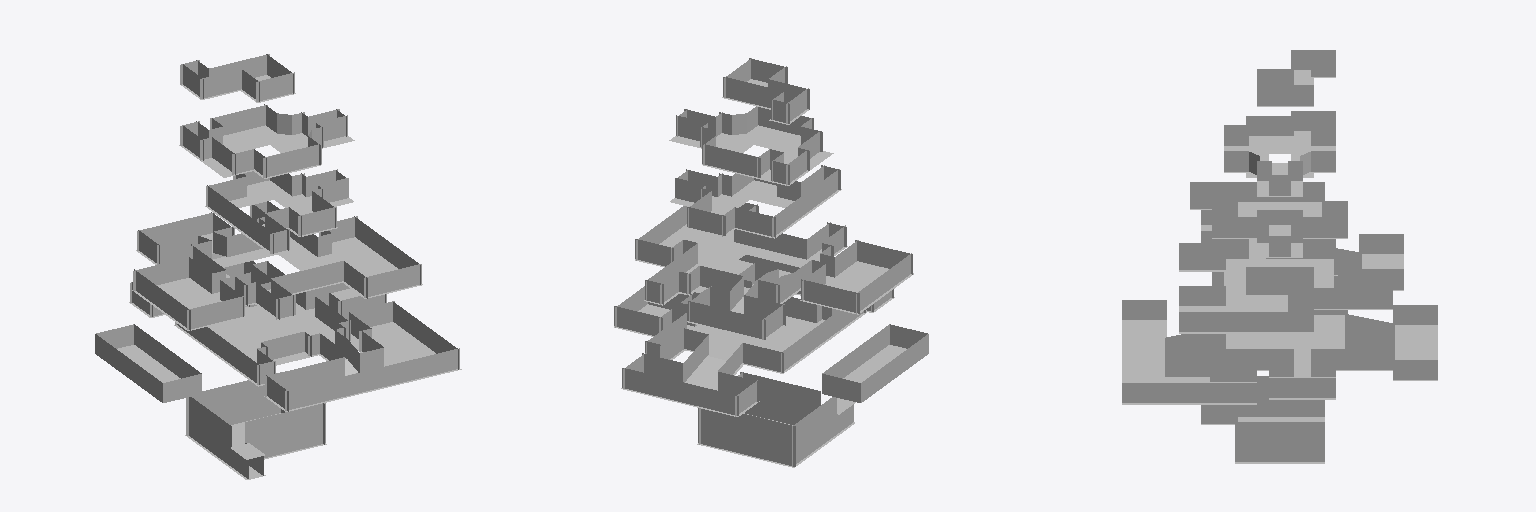
The model's file is tree-0x-collision_mesh.obj.
3 views of the same model, side by side, from view 1: azimuth 30°, elevation 25°; view 2: azimuth 150°, elevation 25°; view 3: azimuth 270°, elevation 25° (orthographic).
Parts seen in each view (by area): view 1: Plane.010_Plane.011, Plane.007_Plane.008, Plane.1161_Plane.862, Plane.1164_Plane.865, Plane.1166_Plane.867, Plane.1167_Plane.868, Plane.1094_Plane.434, Plane.1157_Plane.857, Plane.1172_Plane.873, Plane.1209_Plane.1261, Plane.1191_Plane.1243, Plane.1171_Plane.872 (+25 smaller); view 2: Plane.010_Plane.011, Plane.007_Plane.008, Plane.1166_Plane.867, Plane.1164_Plane.865, Plane.626_Plane.237, Plane.1167_Plane.868, Plane.1172_Plane.873, Plane.1191_Plane.1243, Plane.1171_Plane.872, Plane.1222_Plane.1274, Plane.1209_Plane.1261, Plane.1223_Plane.1275 (+25 smaller); view 3: Plane.007_Plane.008, Plane.1165_Plane.866, Plane.1172_Plane.873, Plane.1091_Plane.401, Plane.1090_Plane.399, Plane.010_Plane.011, Plane.1167_Plane.868, Plane.1142_Plane.263, Plane.1146_Plane.290, Plane.1204_Plane.1256, Plane.1278_Plane.1331, Plane.1202_Plane.1254 (+28 smaller).
Boxes of the visible parts, x1,y1,x2,y2 form: Plane.010_Plane.011: [95, 324, 201, 402]; Plane.007_Plane.008: [129, 264, 357, 386]; Plane.1161_Plane.862: [285, 348, 459, 410]; Plane.1164_Plane.865: [245, 403, 325, 457]; Plane.1166_Plane.867: [186, 372, 280, 435]; Plane.1167_Plane.868: [189, 397, 231, 466]; Plane.1094_Plane.434: [351, 322, 435, 365]; Plane.1157_Plane.857: [265, 357, 344, 396]; Plane.1172_Plane.873: [213, 240, 343, 305]; Plane.1209_Plane.1261: [271, 261, 343, 293]; Plane.1191_Plane.1243: [137, 213, 214, 250]; Plane.1171_Plane.872: [177, 324, 259, 384]; Plane.010_Plane.011: [822, 324, 928, 402]; Plane.007_Plane.008: [621, 309, 866, 416]; Plane.1166_Plane.867: [698, 408, 795, 466]; Plane.1164_Plane.865: [740, 372, 820, 424]; Plane.626_Plane.237: [622, 368, 738, 415]; Plane.1167_Plane.868: [792, 397, 836, 466]; Plane.1172_Plane.873: [686, 239, 819, 303]; Plane.1191_Plane.1243: [688, 301, 765, 339]; Plane.1171_Plane.872: [781, 310, 863, 372]; Plane.1222_Plane.1274: [800, 261, 913, 314]; Plane.1209_Plane.1261: [734, 229, 806, 259]; Plane.1223_Plane.1275: [801, 279, 859, 313]; Plane.007_Plane.008: [1226, 315, 1437, 380]; Plane.1165_Plane.866: [1235, 422, 1324, 461]; Plane.1172_Plane.873: [1224, 257, 1335, 309]; Plane.1091_Plane.401: [1122, 320, 1166, 404]; Plane.1090_Plane.399: [1122, 383, 1256, 402]; Plane.010_Plane.011: [1212, 267, 1313, 294]; Plane.1167_Plane.868: [1238, 376, 1324, 416]; Plane.1142_Plane.263: [1311, 349, 1392, 369]; Plane.1146_Plane.290: [1269, 378, 1335, 397]; Plane.1204_Plane.1256: [1224, 312, 1290, 331]; Plane.1278_Plane.1331: [1246, 131, 1313, 153]; Plane.1202_Plane.1254: [1336, 288, 1392, 308].
Size of the model in its own units: 52 by 72 by 56.